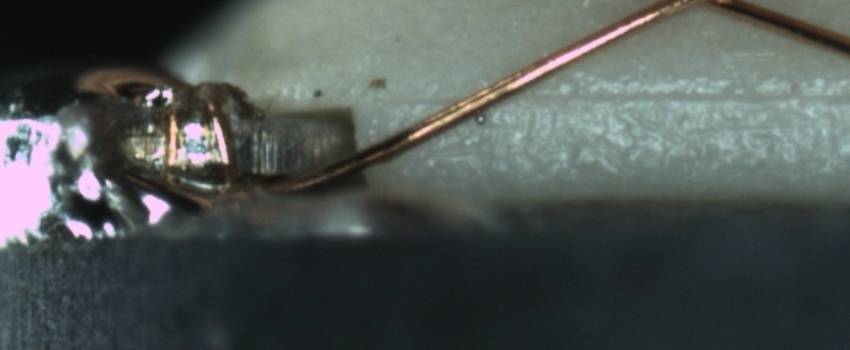CL: (653, 0, 745, 15)
DL: (402, 67, 849, 129)
TE: (155, 75, 242, 199)
